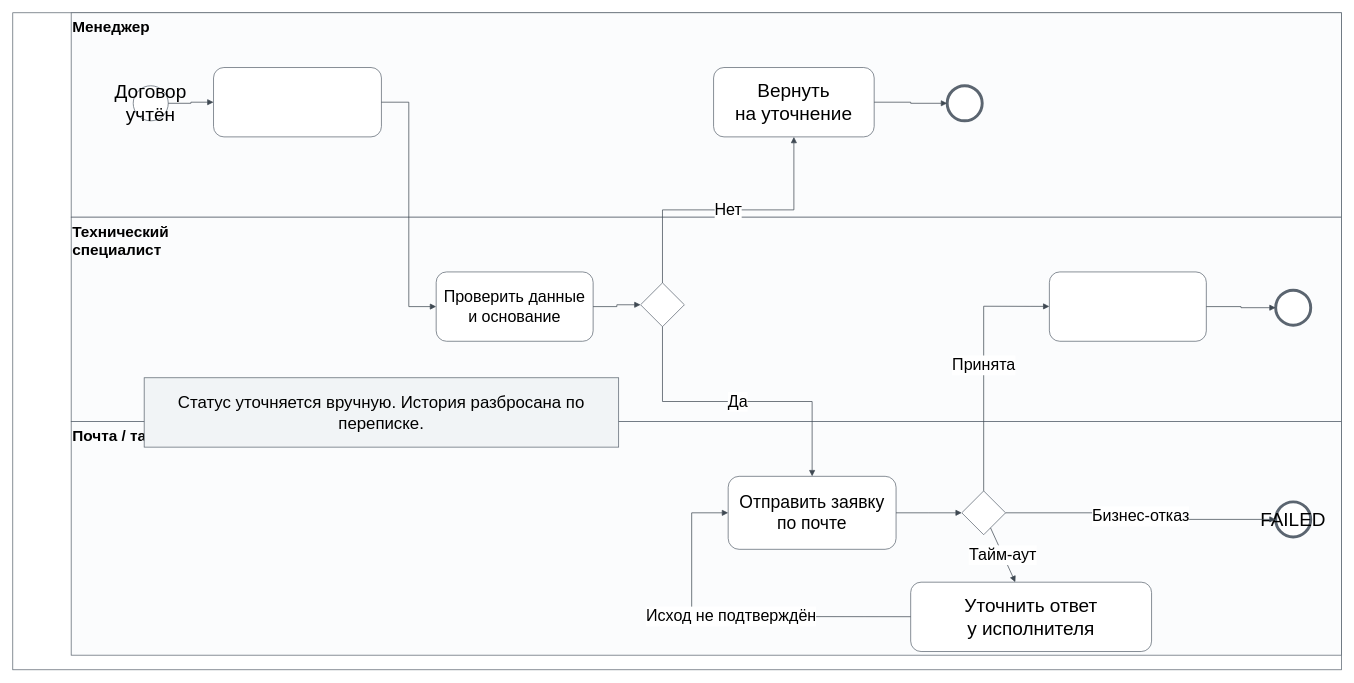
The diagram is 1354 pixels wide and 683 high, and some of its shapes have lost their labels. Each missing label, with the centre of its shape:
"DONE / WON" belongs at pixel 1293 307.
"Данные верны?" belongs at pixel 662 304.
"Результат?" belongs at pixel 983 512.
"Сверить статус выполнения" belongs at pixel 1127 306.
"Создать заявку и плановый срок" belongs at pixel 297 102.
"Уточнить данные" belongs at pixel 964 103.
